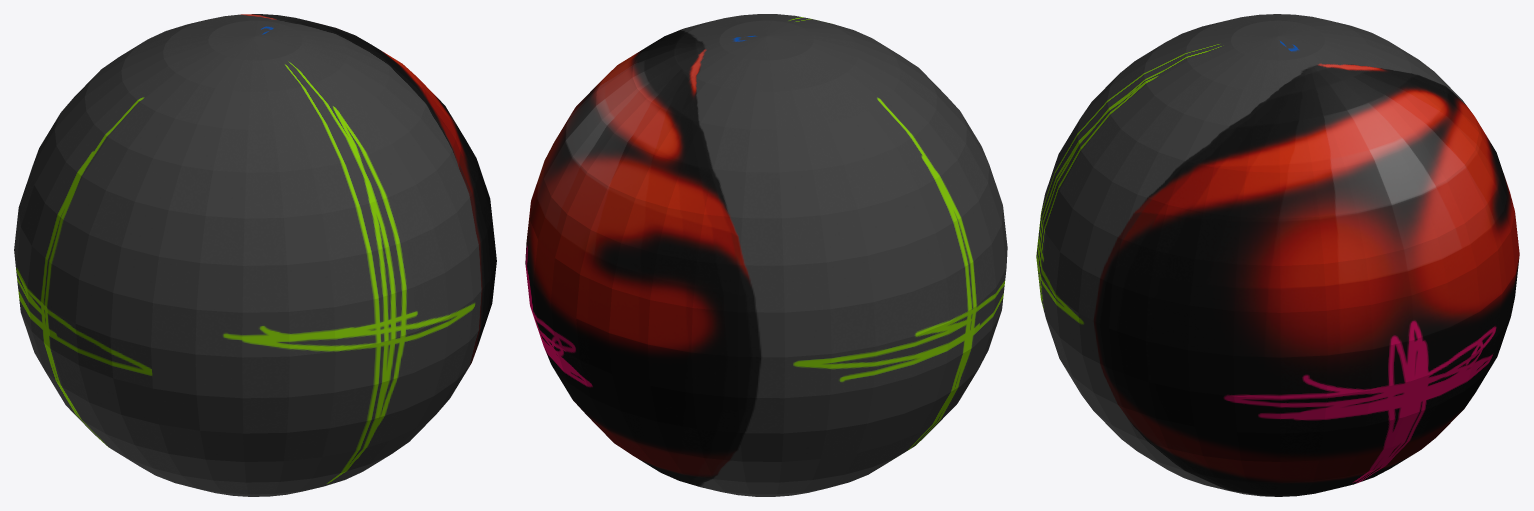
File: Sphere_result.glb
3 renders of one model, left to right at view 1: azimuth 30°, elevation 25°; view 2: azimuth 150°, elevation 25°; view 3: azimuth 270°, elevation 25°, orthographic.
Visible parts, largest first — view 1: Sphere; view 2: Sphere; view 3: Sphere.
Part boxes in pixels (x1,y1,x2,y2): Sphere: [14, 14, 496, 496]; Sphere: [525, 14, 1007, 496]; Sphere: [1036, 14, 1519, 496].
Size of the model in its own units: 4 by 4 by 4.
1 material, 1 textured.
